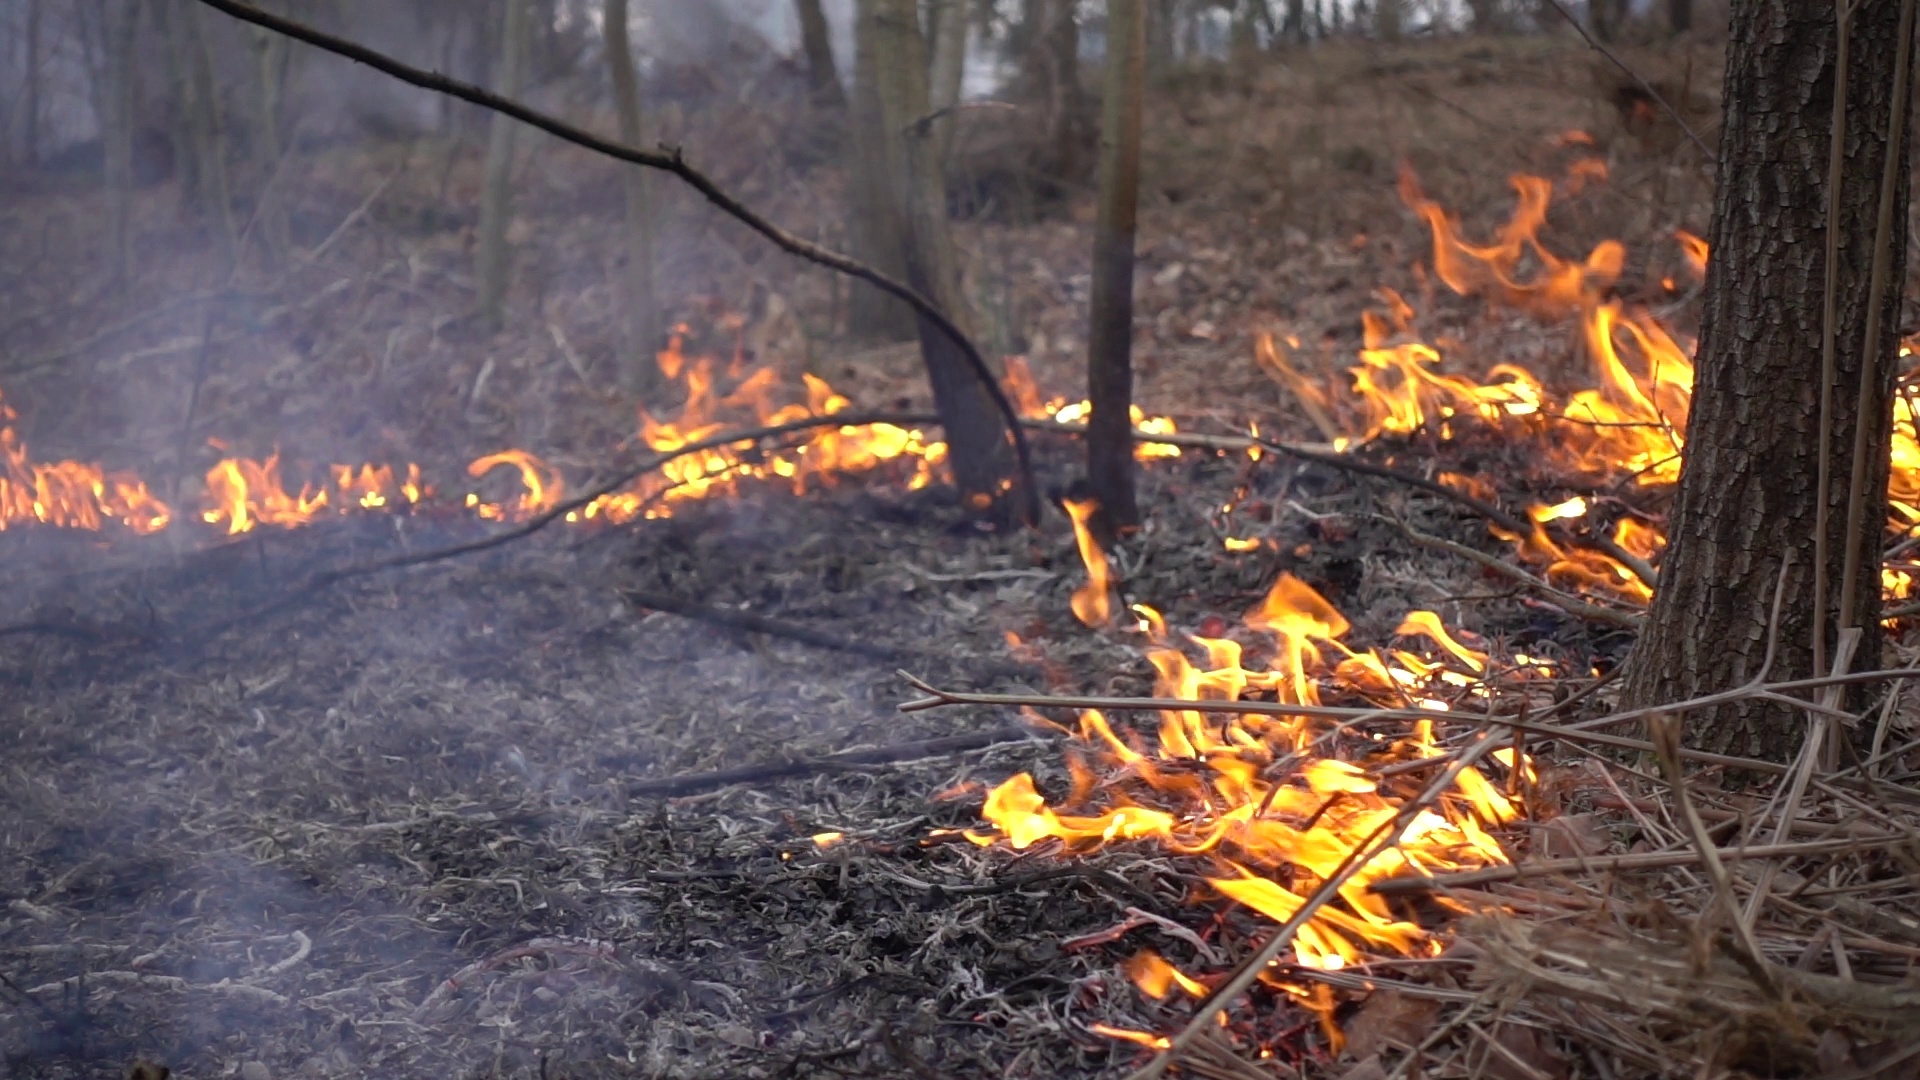fire: (996, 578, 1510, 977), (1345, 190, 1698, 537), (618, 328, 910, 506), (207, 443, 394, 537), (1, 448, 171, 535), (477, 450, 554, 518), (1894, 389, 1920, 520), (1133, 404, 1176, 462)
